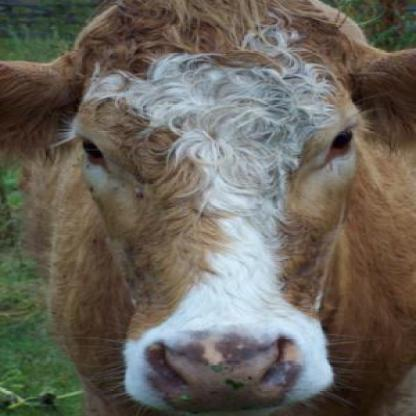mouth: (122, 326, 335, 416)
upper: (202, 356, 244, 375)
